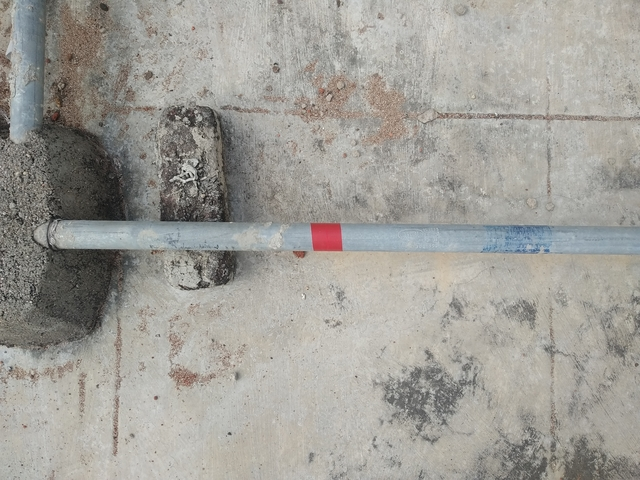rust: (305, 218, 346, 256)
